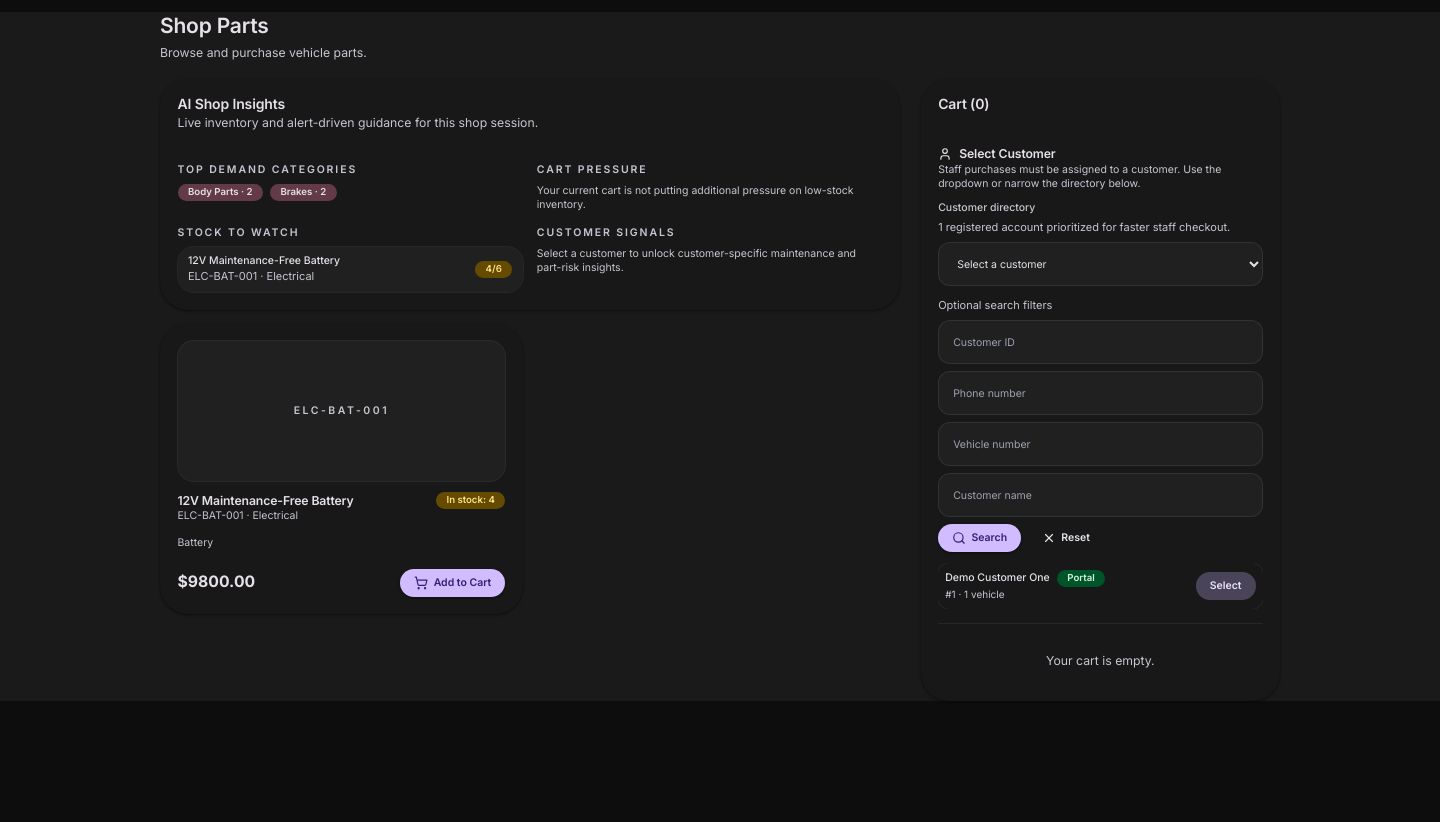
Scenario: ShopPage › renders shop insights and updates customer signals when a customer is selected
Expected: the heading "AI Shop Insights" is shown, left=178, top=94, right=285, bottom=112
Expected: the text "Body Parts · 2" is shown, left=178, top=184, right=263, bottom=201
Select "Portal · Demo Customer One #1" in the dropdown at [1100, 264], box left=938, top=242, right=1262, bottom=286
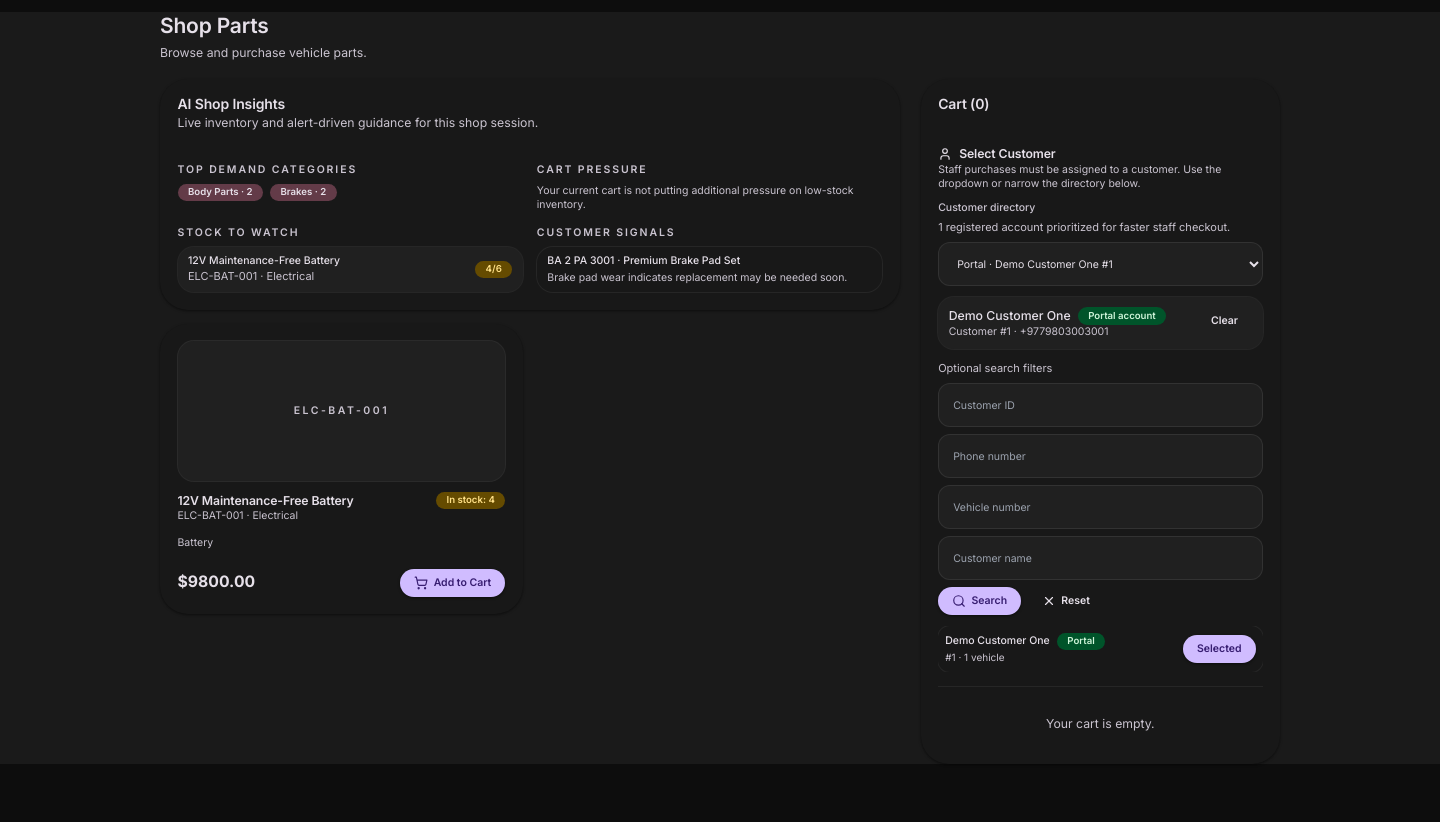
Expected: the text "1 registered account prioritized for faster staff checkout." is shown, left=938, top=218, right=1262, bottom=235
Expected: the text "BA 2 PA 3001 · Premium Brake Pad Set" is shown, left=547, top=254, right=740, bottom=266
Expected: the text "Portal account" is shown, left=1078, top=307, right=1166, bottom=324
